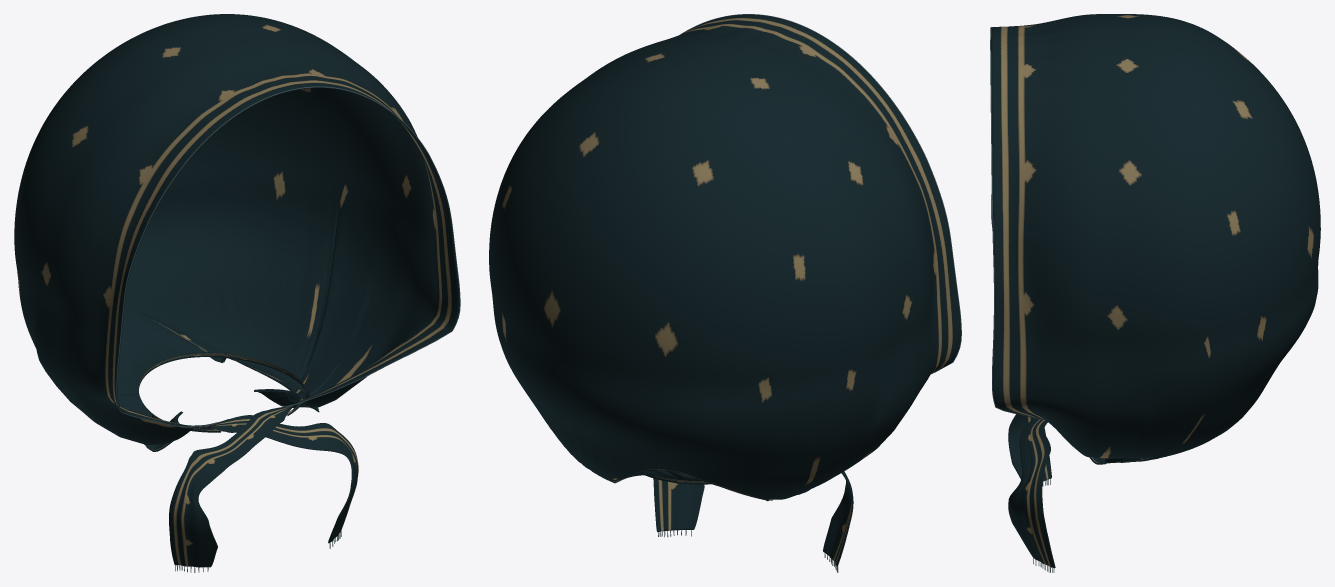
Rendered from Feminine-Feminine-ponytail-pashmina251-headgear-6468fd1e.glb.
The picture shows the model from 3 angles, left to right: view 1: azimuth 30°, elevation 25°; view 2: azimuth 150°, elevation 25°; view 3: azimuth 270°, elevation 25°; orthographic projection. The views are drawn at different scales.
Parts seen in each view (by area): view 1: 226 headgear / Headwear / continuous woven pashmina239.003, 226 headgear / Headwear / face edge239.003; view 2: 226 headgear / Headwear / continuous woven pashmina239.003, 226 headgear / Headwear / face edge239.003; view 3: 226 headgear / Headwear / continuous woven pashmina239.003, 226 headgear / Headwear / face edge239.003.
Boxes of the visible parts, box(x1,y1,x2,y2) form: 226 headgear / Headwear / continuous woven pashmina239.003: box(14, 14, 459, 567); 226 headgear / Headwear / face edge239.003: box(116, 86, 460, 427); 226 headgear / Headwear / continuous woven pashmina239.003: box(489, 14, 960, 566); 226 headgear / Headwear / face edge239.003: box(680, 14, 961, 373); 226 headgear / Headwear / continuous woven pashmina239.003: box(991, 14, 1320, 568); 226 headgear / Headwear / face edge239.003: box(990, 27, 1044, 419).
Bounding box in the file's own units: 1.07 × 1.4 × 0.8393.
Materials: 3 (1 with a texture image).
